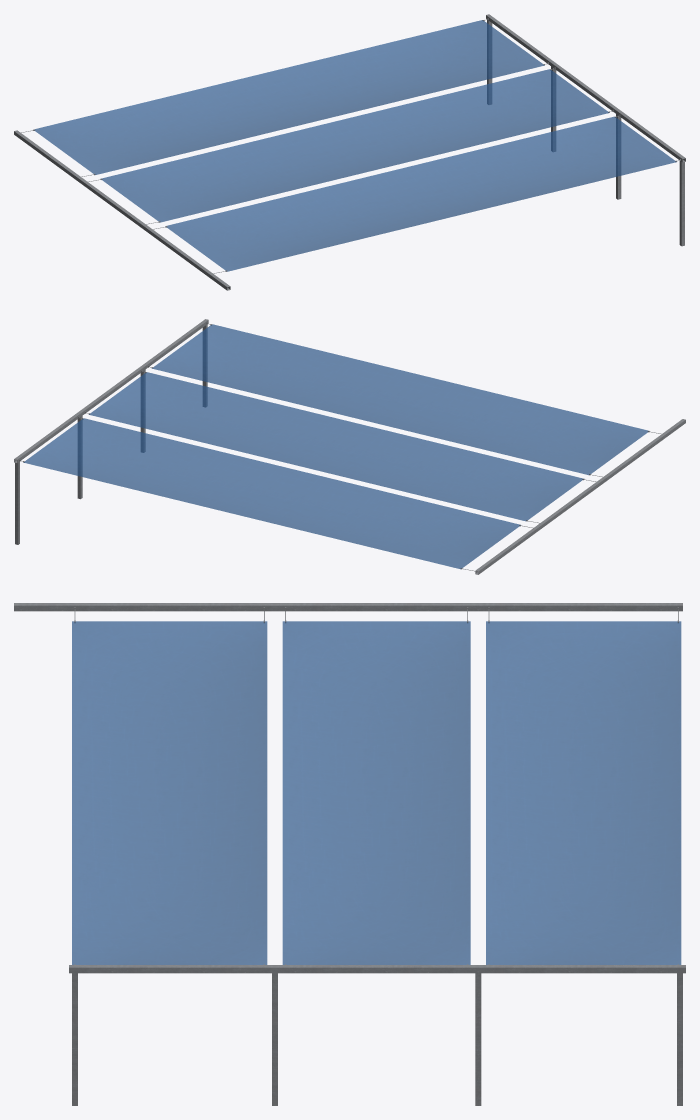
File: ReshetTzel_Felix.gltf
3 views of the same model, one above another, from view 1: azimuth 30°, elevation 25°; view 2: azimuth 150°, elevation 25°; view 3: azimuth 270°, elevation 25° (orthographic). The views are drawn at different scales.
Parts seen in each view (by area): view 1: node2, node1; view 2: node2, node1; view 3: node2, node1.
Boxes of the visible parts, box(x1,y1,x2,y2) form: node2: box(34, 20, 676, 271); node1: box(14, 14, 685, 290); node2: box(23, 324, 648, 569); node1: box(14, 319, 685, 574); node2: box(72, 621, 681, 964); node1: box(14, 603, 685, 1105).
Size of the model in its own units: 28.3 by 5 by 22.05.
